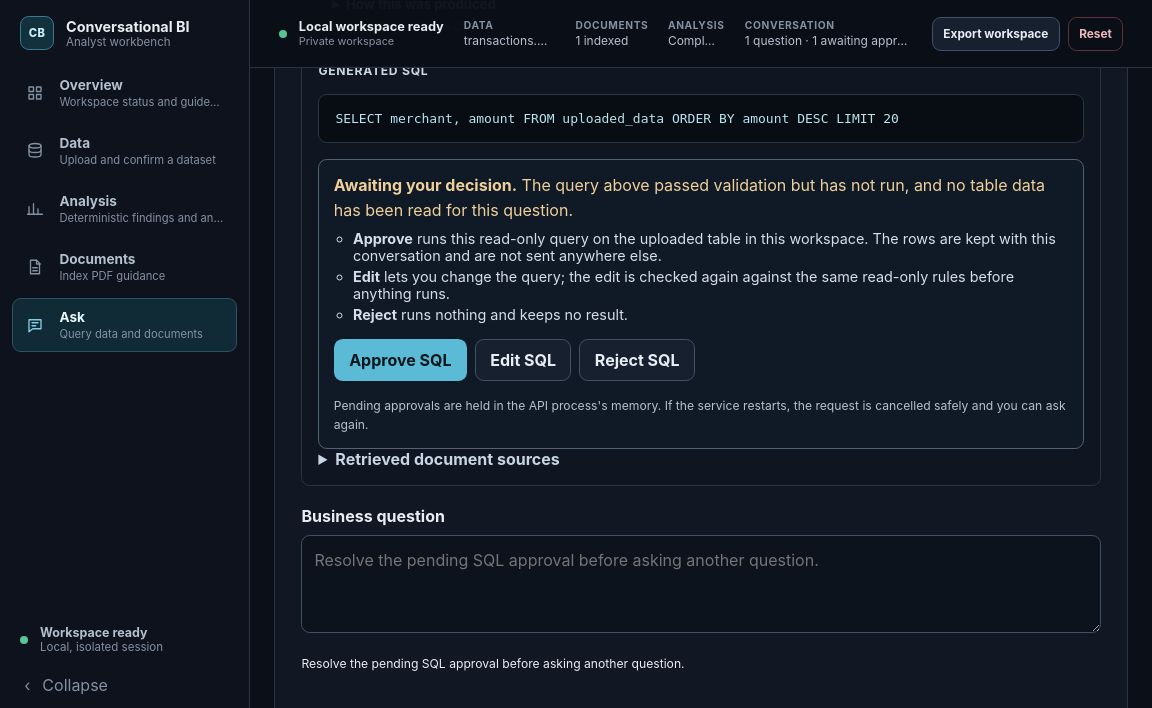
it: human approval › rejects without running SQL
This screenshot has width=1152, height=708.
(page scrolled)
Click the button "Reject SQL" at (637, 360), box [579,339,695,381]
(page scrolled)
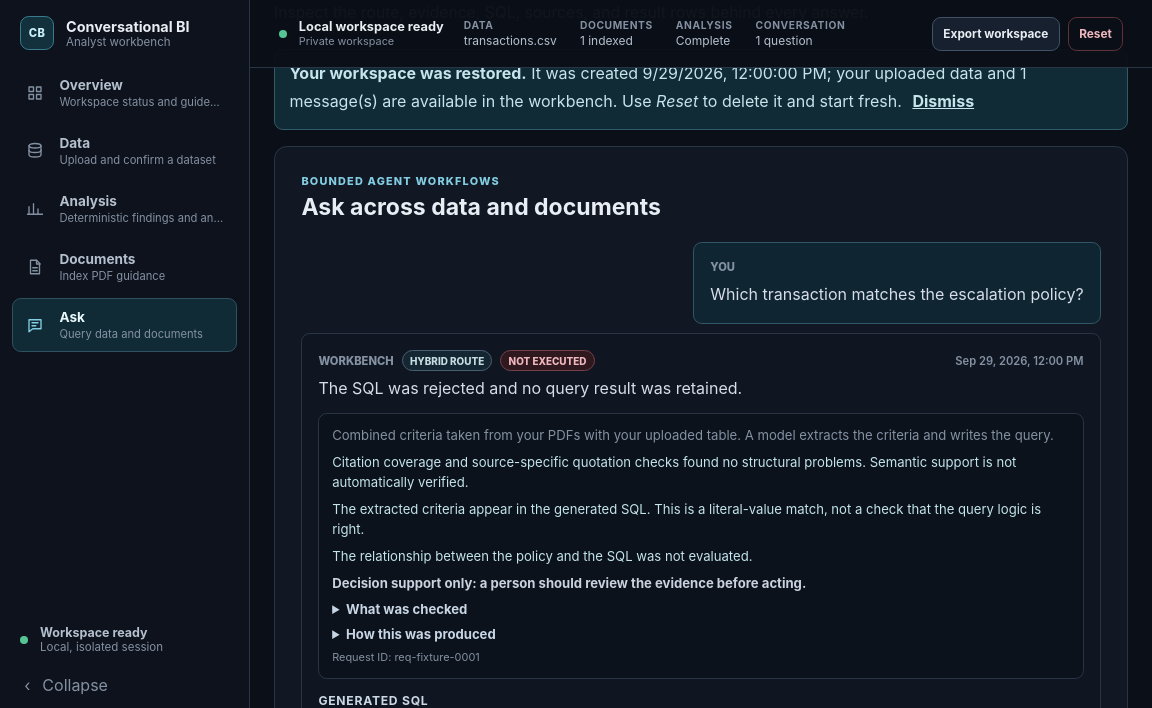
expect the text "Not executed" is shown: met, box [500,350,595,371]
